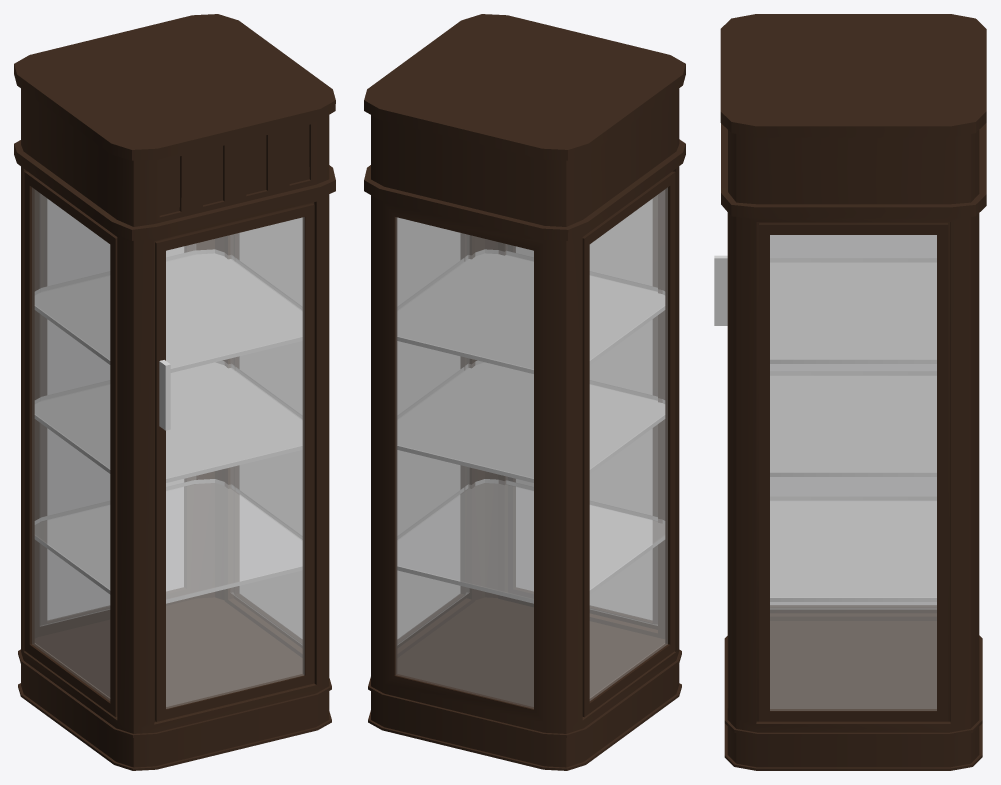
File: Glass cabinet.fbx
3 renders of one model, left to right at view 1: azimuth 30°, elevation 25°; view 2: azimuth 150°, elevation 25°; view 3: azimuth 270°, elevation 25°, orthographic. The views are drawn at different scales.
Visible parts, largest first — view 1: Shkaf_stekl; view 2: Shkaf_stekl; view 3: Shkaf_stekl.
Part boxes in pixels (bbox=[...]): Shkaf_stekl: bbox=[14, 14, 335, 770]; Shkaf_stekl: bbox=[364, 14, 685, 770]; Shkaf_stekl: bbox=[714, 14, 986, 770].
Bounding box in the file's own units: 174 × 468 × 178.
